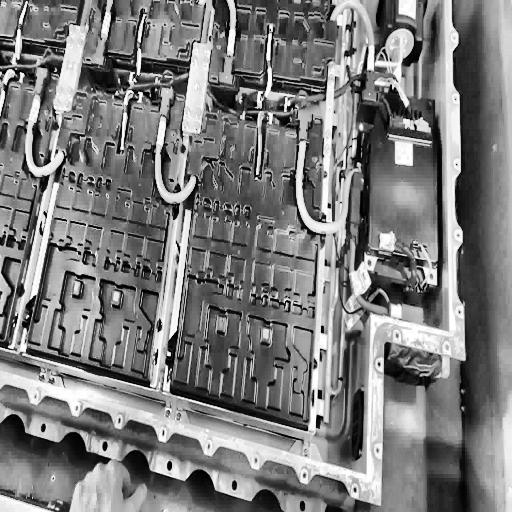high_volt_cable: (296, 104, 358, 238), (329, 0, 383, 108), (22, 65, 67, 185), (155, 82, 198, 206)
nut: (67, 83, 74, 98), (76, 35, 84, 48), (55, 83, 63, 95), (53, 96, 60, 108), (66, 36, 73, 48), (194, 122, 201, 133), (184, 105, 190, 117), (182, 118, 188, 129), (64, 98, 70, 109), (195, 109, 202, 118), (79, 25, 86, 34), (203, 56, 209, 66), (193, 41, 199, 51), (70, 23, 75, 34), (205, 44, 210, 52), (192, 54, 196, 63)
